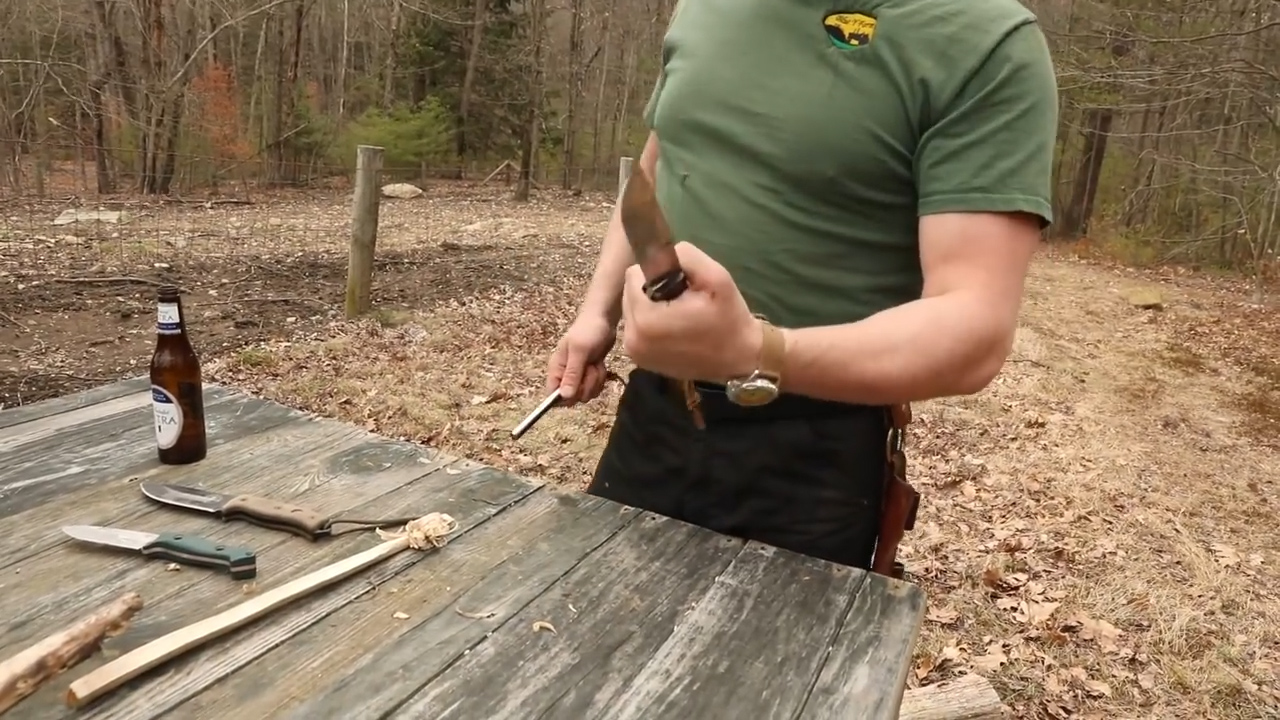knife: (605, 141, 716, 378)
